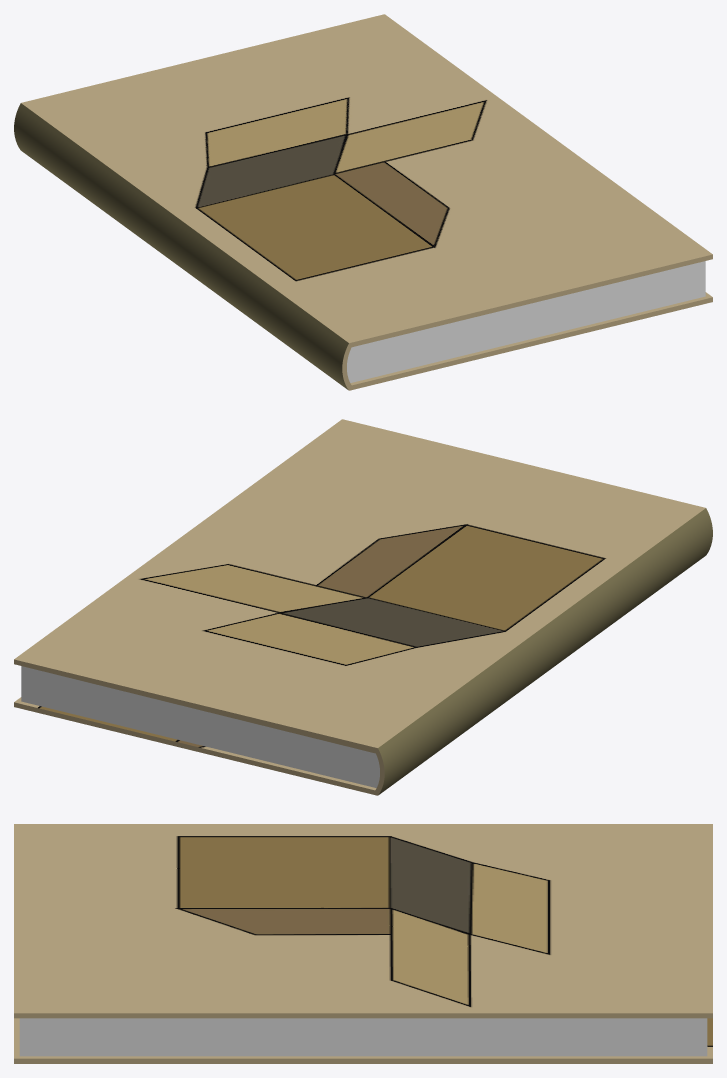
The model's file is hack export.fbx.
The picture shows the model from 3 angles, top to bottom: view 1: azimuth 30°, elevation 25°; view 2: azimuth 150°, elevation 25°; view 3: azimuth 270°, elevation 25°; orthographic projection. The views are drawn at different scales.
Parts seen in each view (by area): view 1: book_shape:polySurface1; view 2: book_shape:polySurface1; view 3: book_shape:polySurface1.
Boxes of the visible parts, x1,y1,x2,y2 form: book_shape:polySurface1: [14, 14, 712, 390]; book_shape:polySurface1: [14, 419, 712, 795]; book_shape:polySurface1: [14, 824, 712, 1063].
Size of the model in its own units: 16.3 by 2 by 25.
3 materials, 1 textured.
